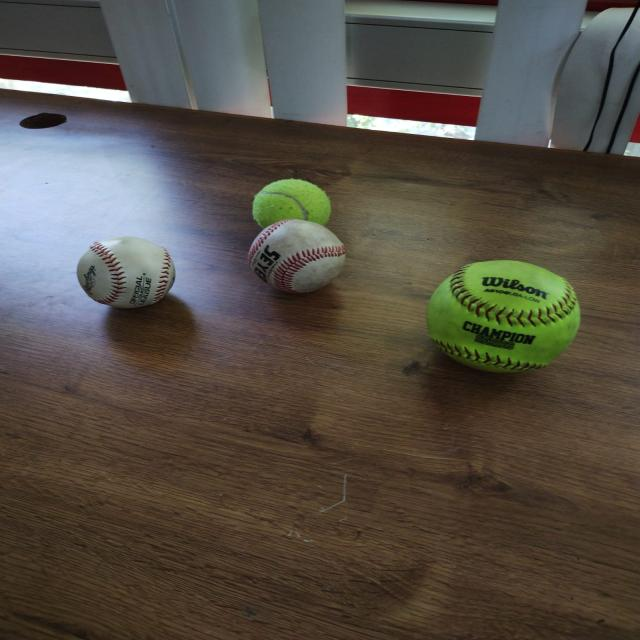beisbol ball: (72, 233, 183, 312), (249, 219, 349, 293)
softball ball: (425, 262, 582, 372)
tenis ball: (251, 178, 331, 230)
